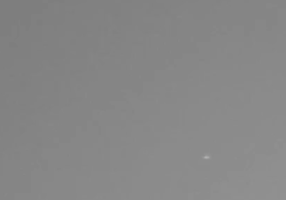Target: (204, 156, 208, 158)
